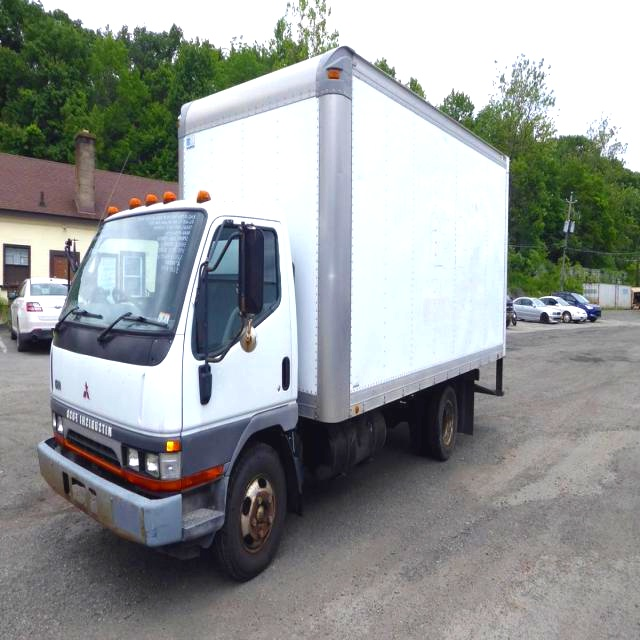car: (10, 248, 66, 348)
truck: (25, 38, 531, 586)
